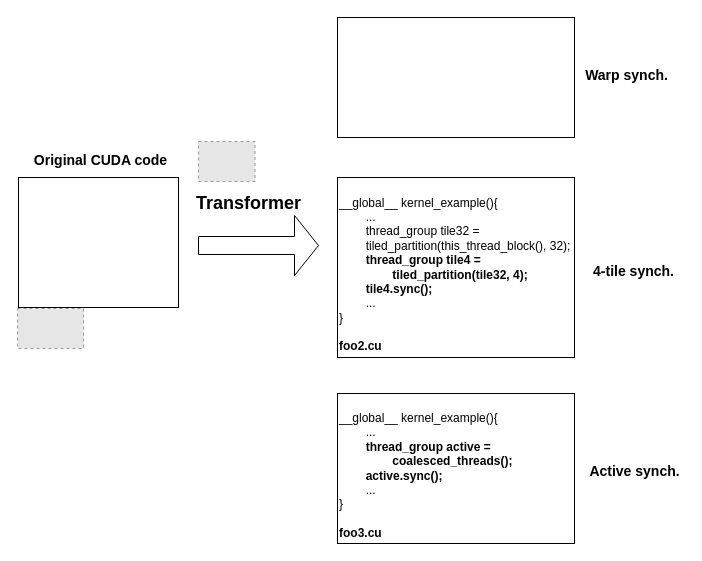
The diagram is 702 pixels wide and 561 high, and some of its shapes have lost their labels. Grey dashed boxes stand in for pictures. Each missing label, with the box of its shape:
__global__ kernel_example(){ ... __syncthreads(); ... } foo.cu: (18, 176, 178, 308)
__global__ kernel_example(){ ... __syncwarp(); ... } foo1.cu: (336, 16, 574, 138)
